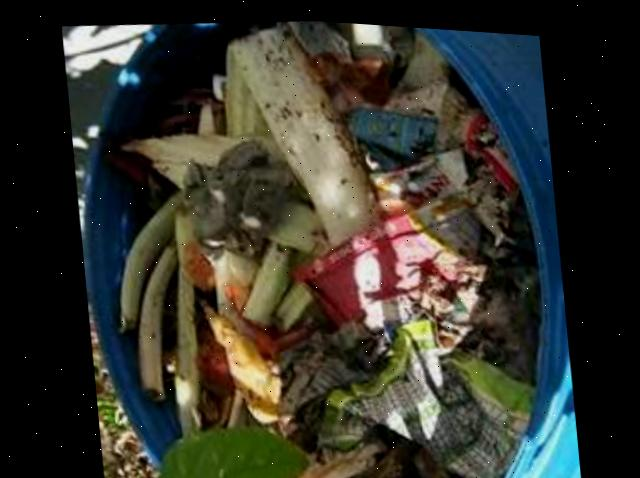Garbage: (81, 16, 548, 478)
